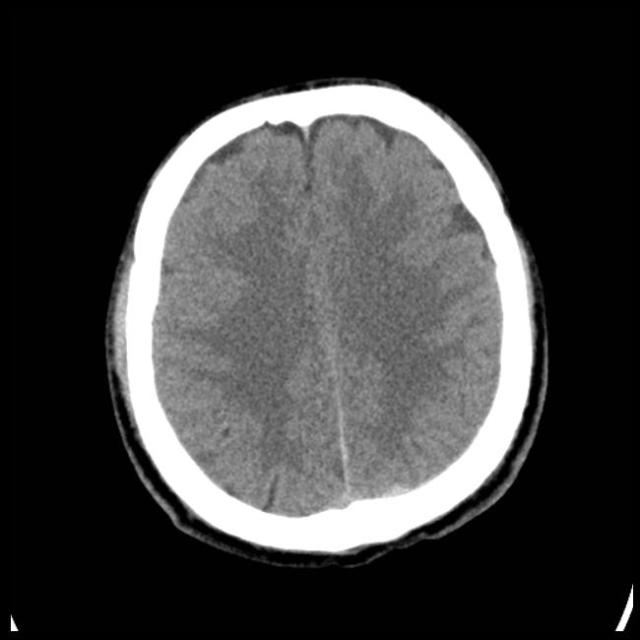lesion: (104, 75, 550, 567)
